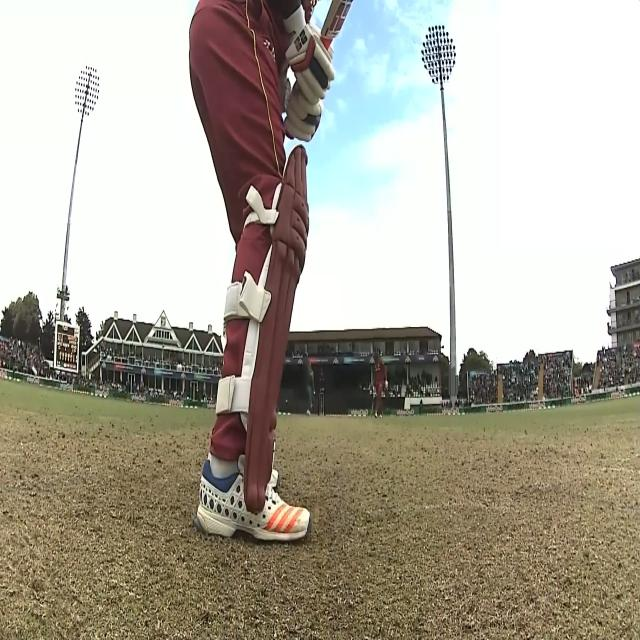ball: (313, 392, 316, 395)
